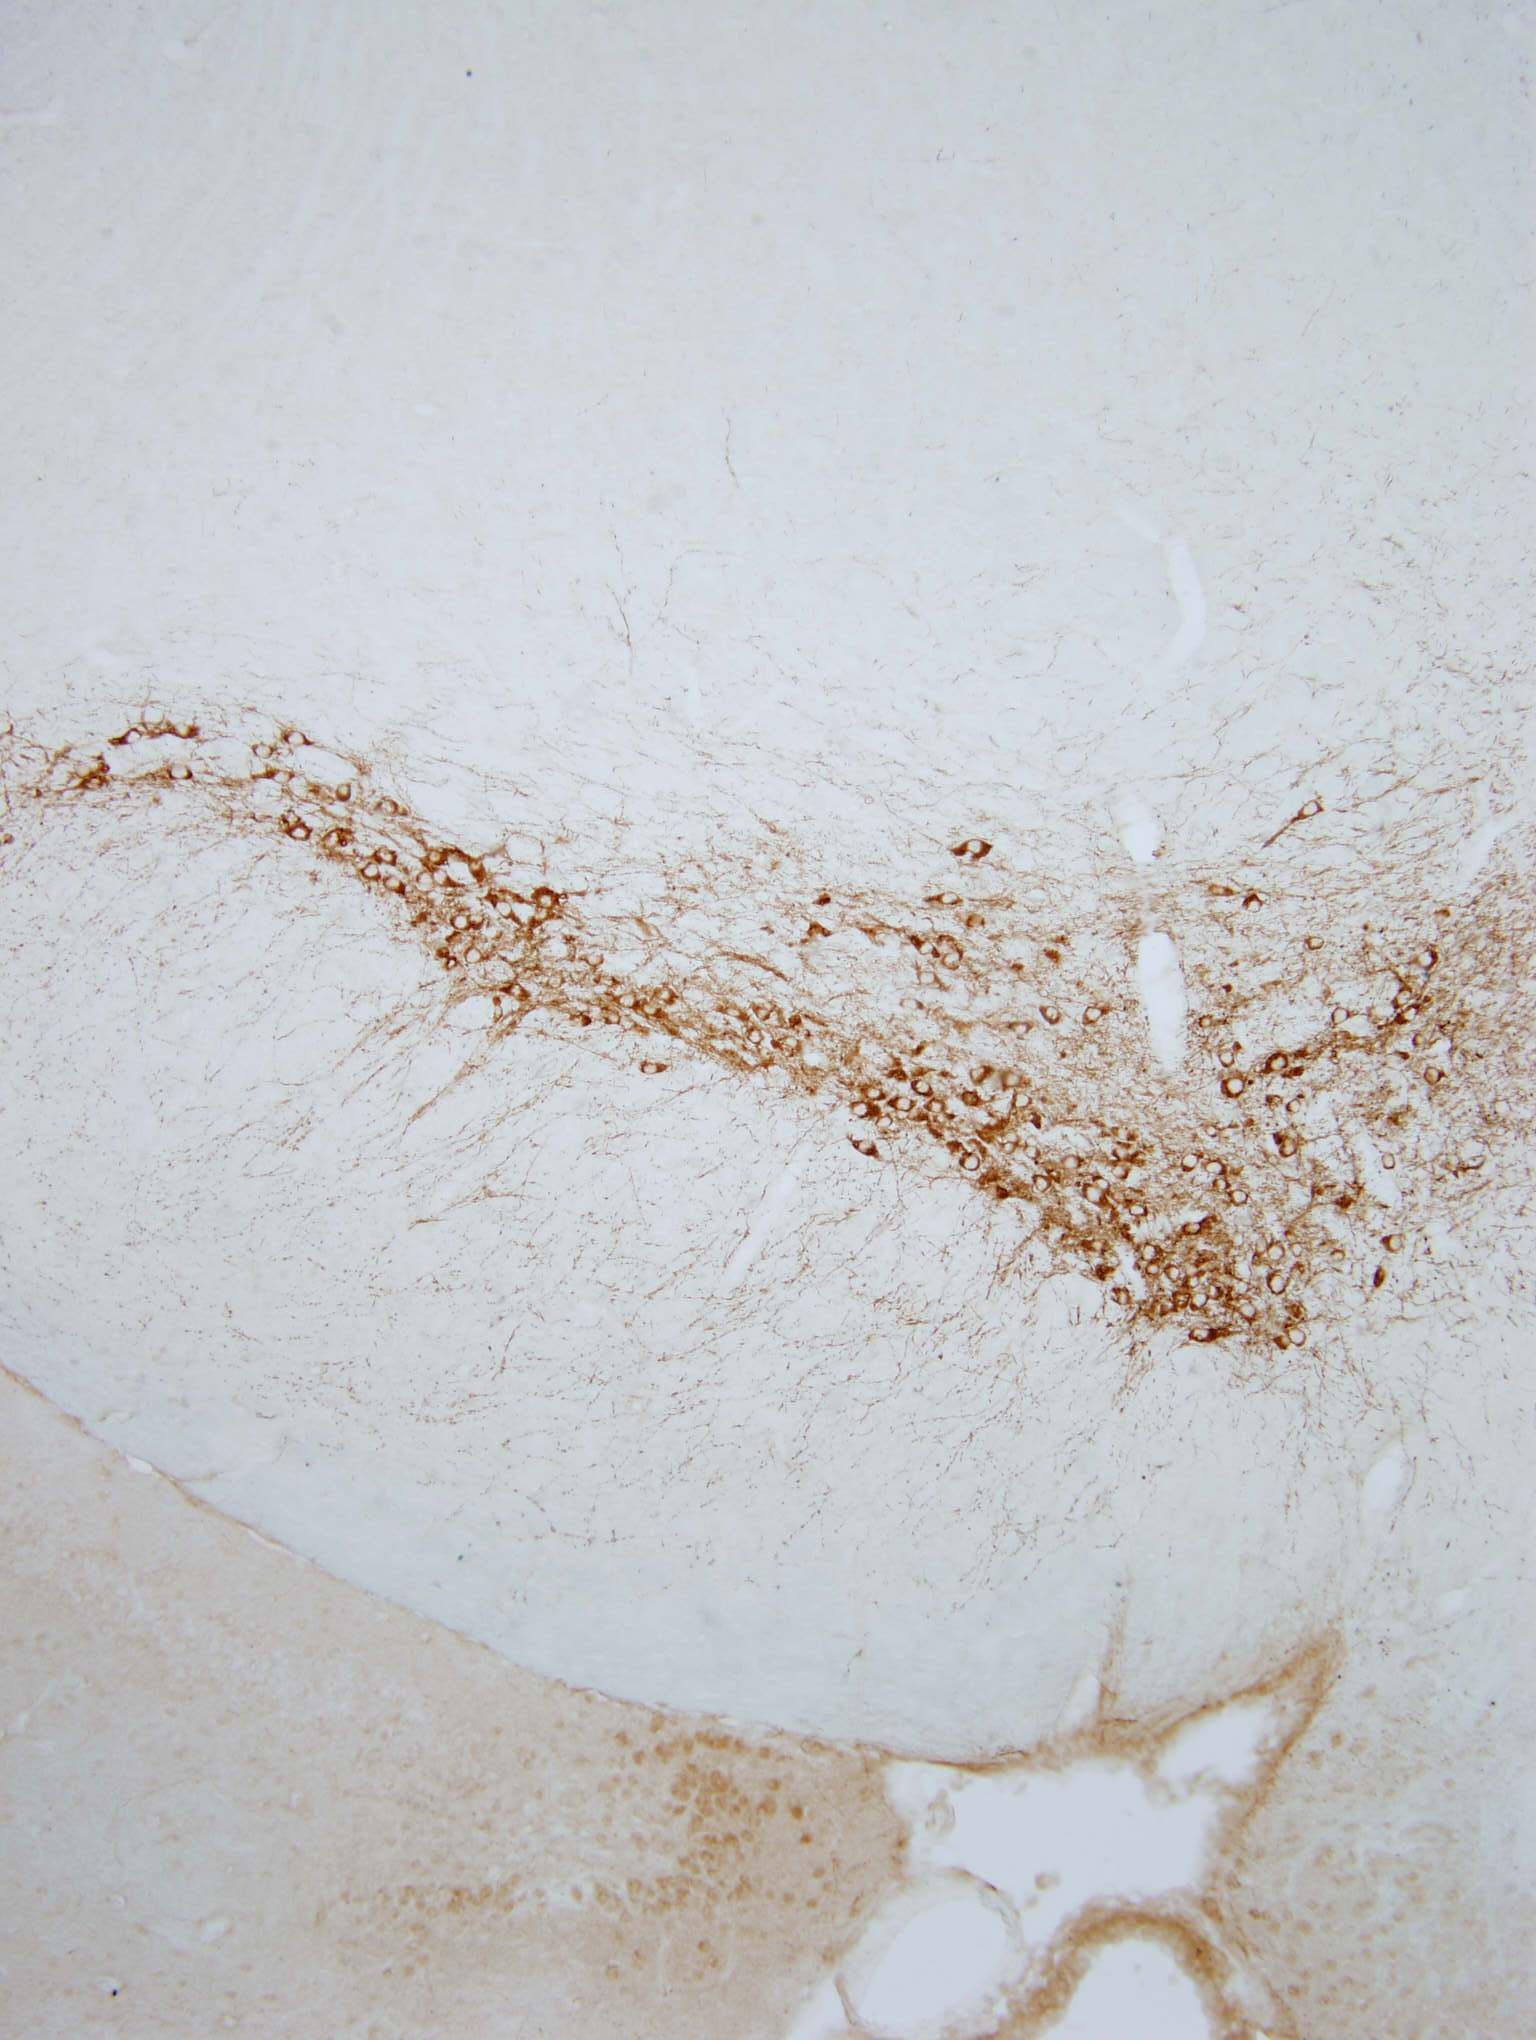neuron: (771, 1026, 808, 1063), (895, 989, 933, 1026), (962, 1055, 999, 1092), (1076, 997, 1112, 1034), (115, 718, 150, 755), (1158, 1256, 1196, 1292), (1187, 1321, 1225, 1356), (1204, 1147, 1239, 1184), (1204, 874, 1241, 910), (1212, 1042, 1249, 1077), (1271, 1130, 1307, 1168), (1300, 926, 1338, 961), (1413, 943, 1449, 980), (1418, 1055, 1454, 1092), (266, 760, 302, 797), (282, 814, 319, 850), (316, 819, 352, 856), (328, 772, 363, 810), (369, 837, 407, 872), (379, 868, 415, 905), (432, 864, 468, 901), (449, 905, 484, 942), (461, 848, 499, 884), (490, 893, 528, 929), (532, 881, 568, 918), (716, 993, 753, 1029), (749, 993, 786, 1029), (908, 1068, 944, 1105), (954, 1145, 991, 1180), (958, 827, 994, 864), (1004, 1010, 1039, 1045), (1007, 1082, 1042, 1118), (1026, 1166, 1062, 1201), (1036, 997, 1071, 1032), (1057, 1143, 1092, 1179), (1173, 1143, 1208, 1179), (1218, 1068, 1254, 1103), (1234, 1298, 1270, 1334), (1238, 887, 1273, 922), (1258, 1235, 1294, 1271), (1262, 1043, 1297, 1079), (1262, 1266, 1297, 1301), (1283, 1319, 1318, 1355), (1294, 795, 1329, 831), (1325, 995, 1360, 1030), (1381, 1224, 1417, 1259), (163, 755, 198, 790), (168, 713, 203, 748), (247, 734, 282, 769), (281, 719, 316, 755), (460, 939, 495, 974), (500, 972, 536, 1008), (636, 1048, 671, 1084), (849, 1132, 884, 1168), (887, 1087, 923, 1122), (908, 930, 944, 966), (931, 879, 966, 914), (1000, 1135, 1025, 1159), (1025, 1142, 1049, 1166), (1094, 1169, 1118, 1193), (1113, 1121, 1137, 1145), (1129, 1198, 1154, 1222), (1139, 1240, 1163, 1264), (1142, 1259, 1167, 1284), (1229, 1185, 1254, 1209), (1288, 1093, 1312, 1118), (1392, 987, 1417, 1011), (361, 861, 386, 885), (616, 989, 641, 1013), (641, 998, 665, 1022), (658, 980, 682, 1005), (745, 1026, 770, 1050), (850, 1098, 874, 1122), (876, 1110, 900, 1134), (918, 968, 942, 992), (926, 1095, 950, 1119), (1083, 1184, 1105, 1208), (1110, 1163, 1134, 1185), (1112, 1145, 1134, 1169), (1183, 1218, 1205, 1242), (1187, 1292, 1212, 1314), (1213, 1176, 1238, 1198), (1399, 1005, 1423, 1027), (424, 847, 449, 869), (865, 1082, 887, 1106)
